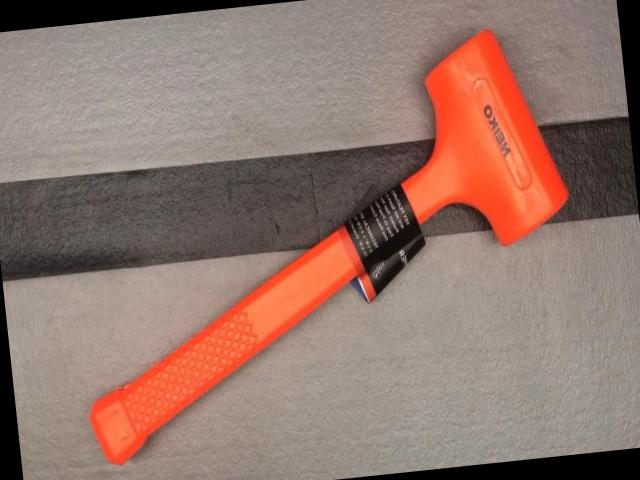hammer: (53, 21, 594, 466)
